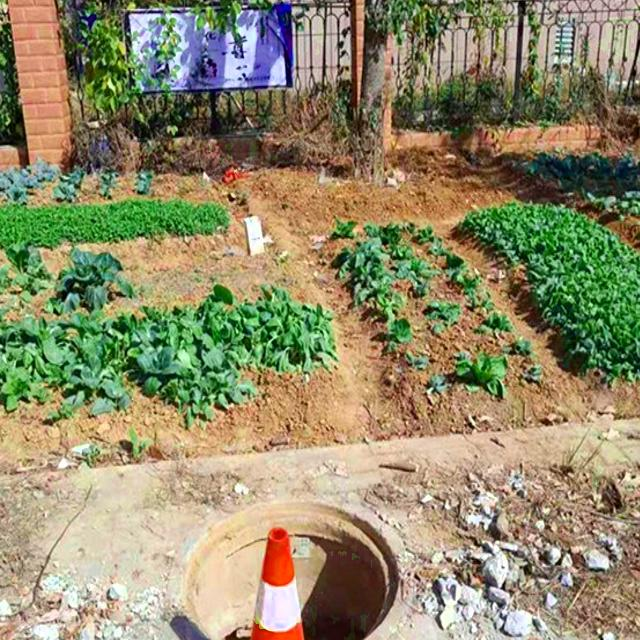lose: (167, 488, 410, 640)
